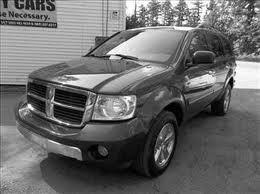car: (15, 25, 239, 182)
